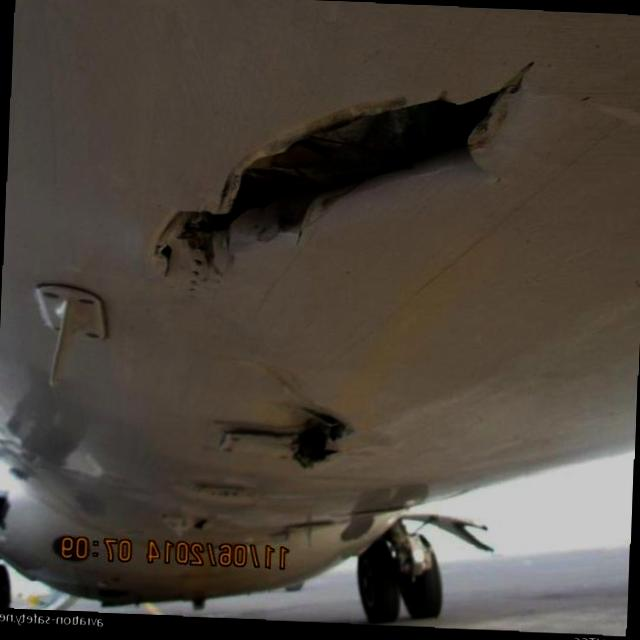crack: (150, 49, 540, 304)
